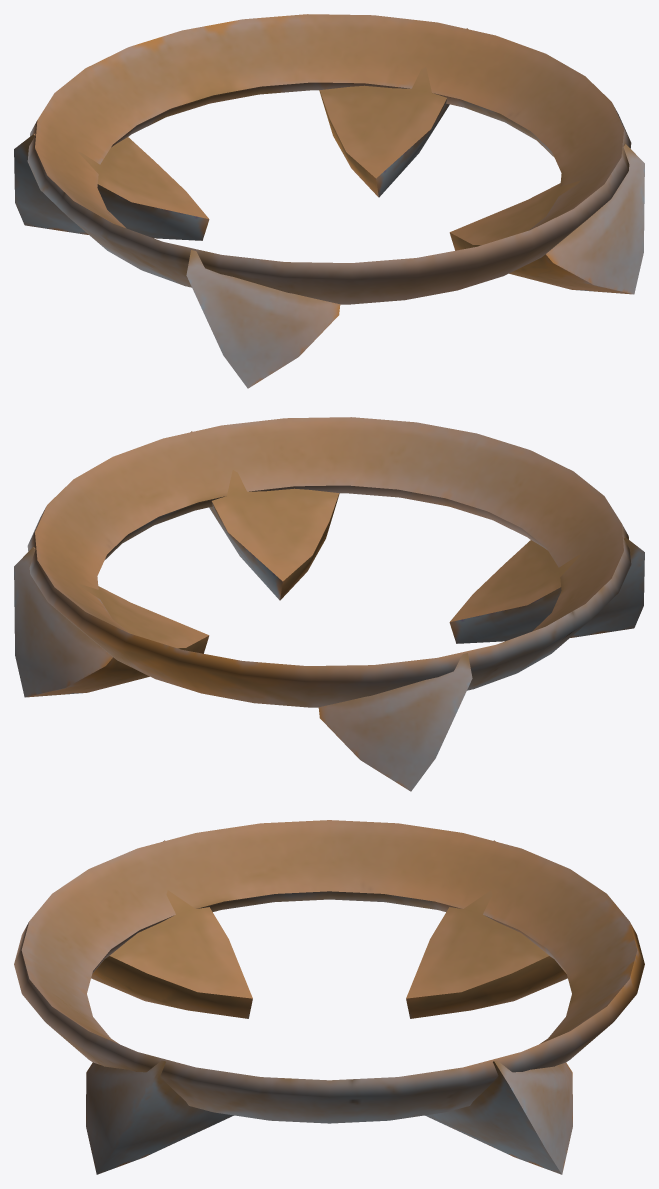
The model's file is SM_Potion_Props_Stand_01.fbx.
The picture shows the model from 3 angles, top to bottom: view 1: azimuth 30°, elevation 25°; view 2: azimuth 150°, elevation 25°; view 3: azimuth 270°, elevation 25°; orthographic projection. The views are drawn at different scales.
Parts seen in each view (by area): view 1: SM_Potion_Props_Stand_01_LOD0; view 2: SM_Potion_Props_Stand_01_LOD0; view 3: SM_Potion_Props_Stand_01_LOD0.
Boxes of the visible parts, left/top/right/bottom form: SM_Potion_Props_Stand_01_LOD0: left=14, top=14, right=644, bottom=388; SM_Potion_Props_Stand_01_LOD0: left=14, top=417, right=644, bottom=791; SM_Potion_Props_Stand_01_LOD0: left=14, top=820, right=644, bottom=1174.
Size of what is drawn, in the model's own units: 7.73 by 1.74 by 7.73.
